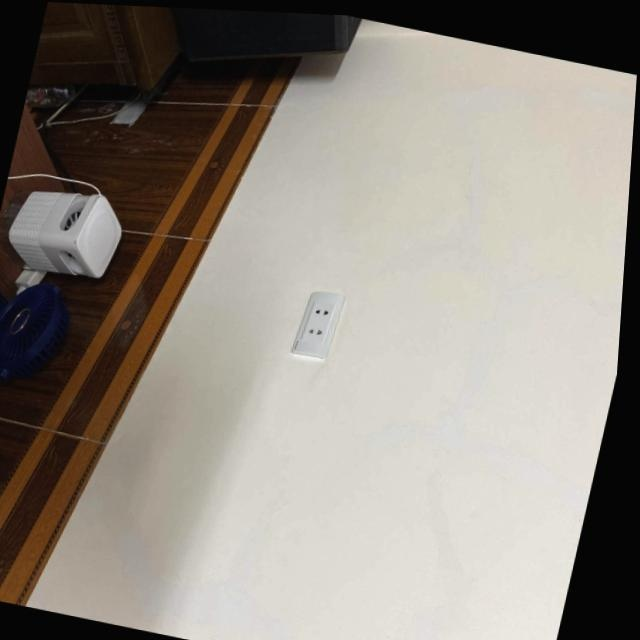outlet: (290, 286, 346, 362)
